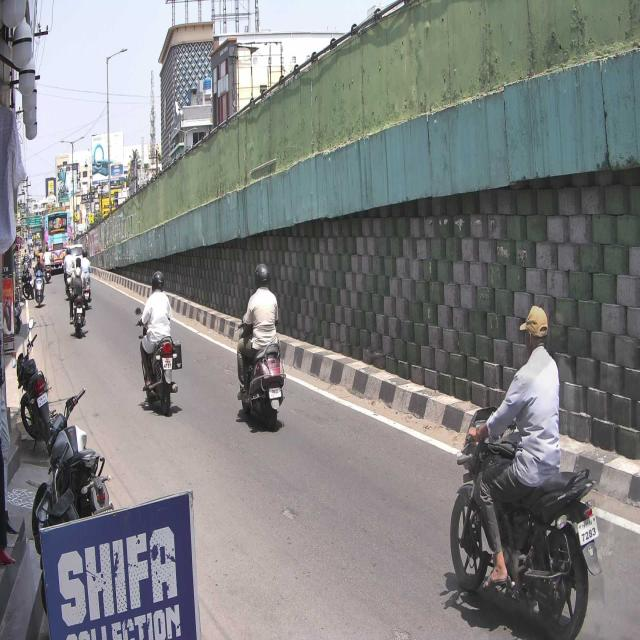single_rider: (451, 303, 601, 640), (235, 263, 288, 429), (136, 270, 180, 415)
